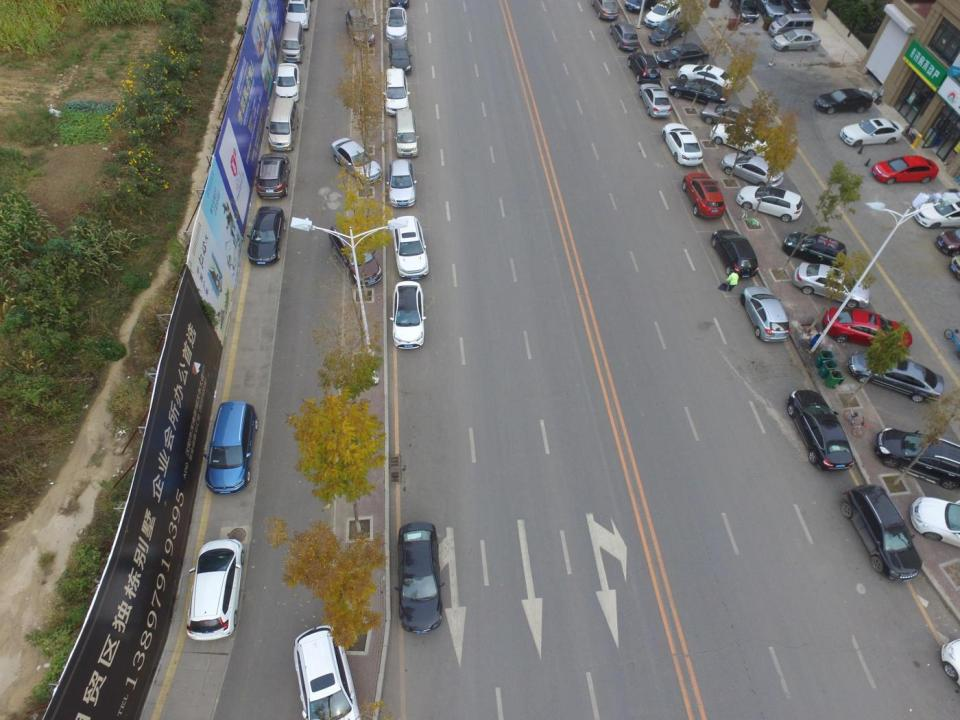car: (841, 485, 922, 582), (289, 625, 361, 720), (392, 519, 444, 635), (875, 421, 960, 490), (187, 540, 246, 639), (787, 390, 856, 473), (850, 348, 944, 404), (206, 401, 258, 493), (823, 305, 914, 354), (794, 260, 872, 306), (332, 221, 384, 283), (742, 288, 791, 344), (737, 184, 804, 224), (720, 150, 784, 191), (909, 494, 960, 545), (700, 100, 774, 135), (710, 122, 774, 162), (391, 215, 429, 281), (330, 137, 382, 185), (391, 281, 426, 351), (710, 227, 756, 280), (783, 232, 847, 269), (248, 204, 285, 265), (666, 75, 729, 109), (874, 155, 940, 186), (684, 171, 726, 219), (678, 62, 734, 95), (663, 124, 704, 168), (839, 120, 903, 147), (256, 152, 291, 198), (813, 87, 874, 113), (386, 161, 417, 209), (916, 196, 960, 228), (639, 80, 672, 120), (658, 46, 712, 70), (626, 50, 661, 86), (346, 6, 374, 50), (771, 28, 822, 52), (643, 1, 685, 30), (648, 18, 691, 46), (274, 62, 300, 100), (611, 20, 640, 54), (388, 38, 414, 74), (282, 0, 310, 29), (759, 0, 791, 21), (385, 9, 406, 40), (728, 0, 759, 21), (932, 230, 960, 252), (592, 0, 620, 19), (788, 0, 817, 15)
van: (266, 100, 300, 150), (383, 66, 410, 118), (392, 109, 420, 158), (768, 13, 814, 36), (280, 22, 304, 62)
